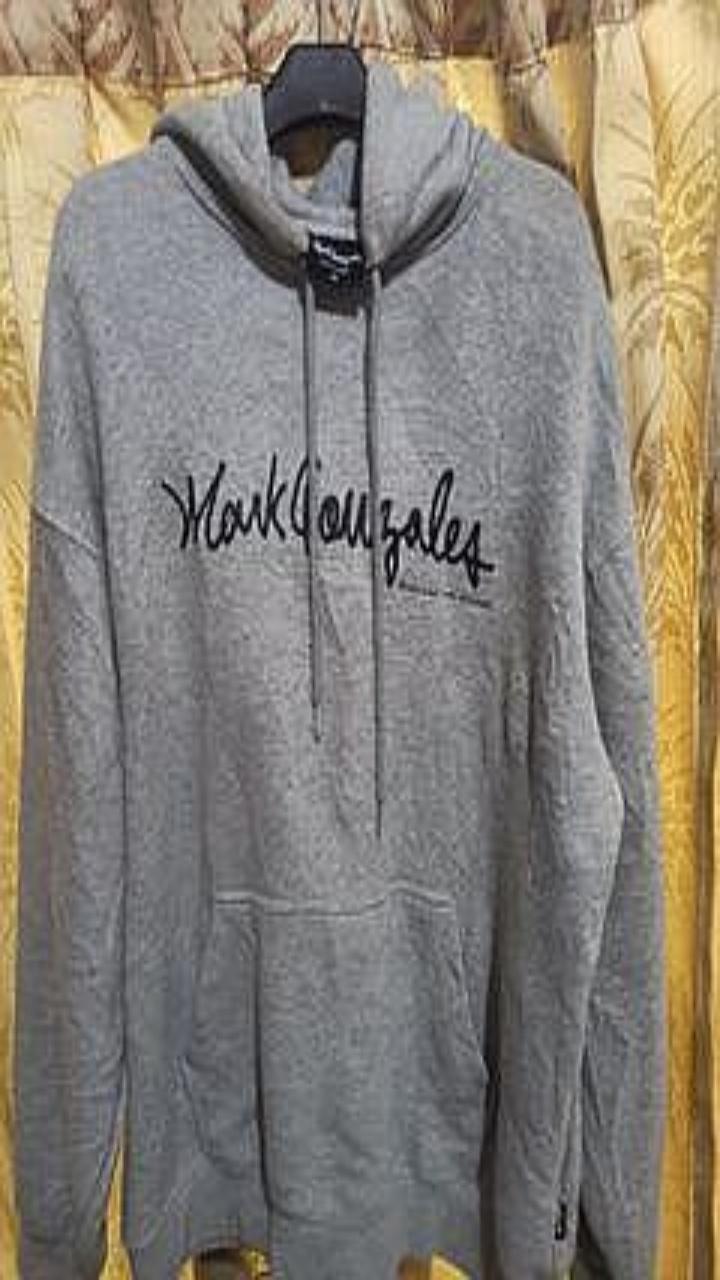Hoodie: (14, 61, 664, 1279)
